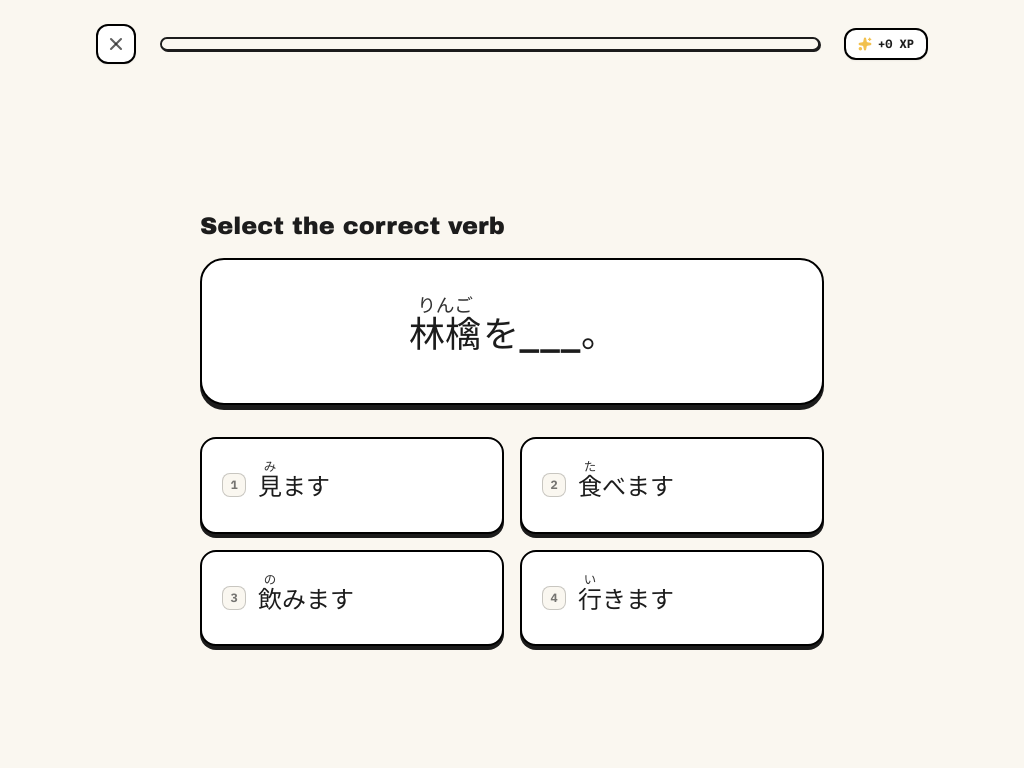
Scenario: VocabularyQuiz › opens ExitConfirmationModal when clicking exit button and stays on Keep Practicing
Click exit button
Click the button named "exit quiz". click: point(116, 44)
box: [96,24,136,64]
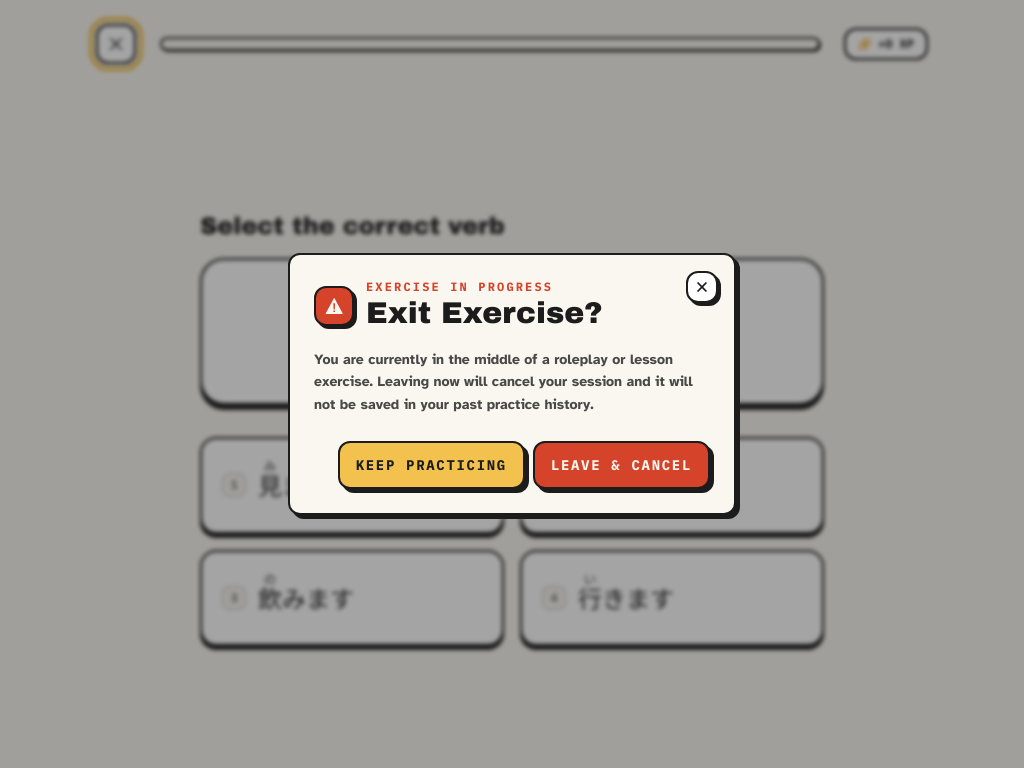
Now the dialog is shown
Now the heading "Exit Exercise?" is shown, box [366,295,603,333]
Now the text "leaving now will cancel your session" is shown, box [314,351,693,413]
Click Keep Practicing
Click the button "Keep Practicing". click: point(431, 465)
box: [338,441,525,489]
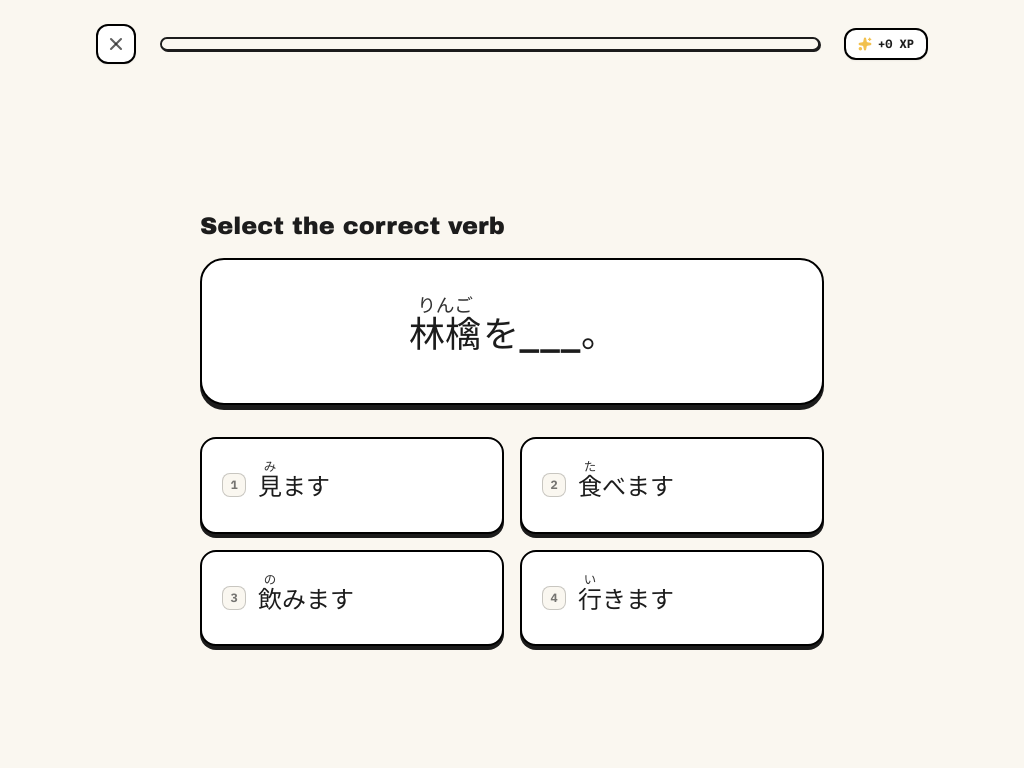
Now the dialog is gone
